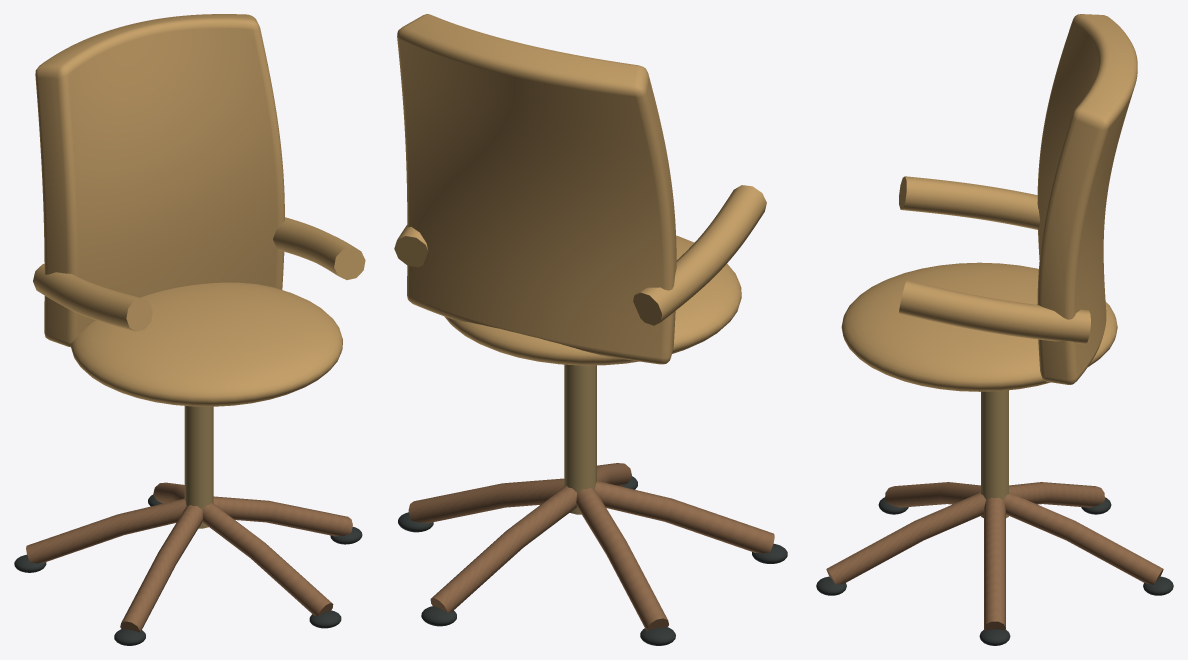
File: chair-3.glb
3 views of the same model, side by side, from view 1: azimuth 30°, elevation 25°; view 2: azimuth 150°, elevation 25°; view 3: azimuth 270°, elevation 25° (orthographic). The views are drawn at different scales.
Parts seen in each view (by area): view 1: Honey chair back, Shaped seat cushion, Swept padded arm, Five star wood foot.002, Five star wood foot.004, Five star wood foot.003, Swept padded arm.001, Swivel column, Five star wood foot, Five star wood foot.001; view 2: Honey chair back, Shaped seat cushion, Swept padded arm, Five star wood foot.003, Five star wood foot.001, Swivel column, Five star wood foot.002, Five star wood foot, Swept padded arm.001, Five star wood foot.004; view 3: Honey chair back, Shaped seat cushion, Swept padded arm.001, Swept padded arm, Five star wood foot.001, Five star wood foot.004, Swivel column, Five star wood foot, Five star wood foot.002, Five star wood foot.003.
Boxes of the visible parts, x1,y1,x2,y2 form: Honey chair back: (35, 14, 284, 347); Shaped seat cushion: (70, 282, 342, 406); Swept padded arm: (33, 263, 152, 331); Five star wood foot.002: (26, 498, 186, 563); Five star wood foot.004: (202, 503, 333, 616); Five star wood foot.003: (120, 505, 202, 632); Swept padded arm.001: (273, 217, 365, 279); Swivel column: (184, 406, 213, 528); Five star wood foot: (213, 496, 352, 536); Five star wood foot.001: (153, 482, 184, 503); Honey chair back: (397, 14, 676, 364); Shaped seat cushion: (444, 235, 741, 365); Swept padded arm: (633, 185, 766, 325); Five star wood foot.003: (595, 481, 774, 553); Five star wood foot.001: (430, 486, 576, 612); Swivel column: (564, 364, 596, 514); Five star wood foot.002: (576, 488, 668, 630); Five star wood foot: (408, 478, 564, 523); Swept padded arm.001: (394, 225, 428, 267); Five star wood foot.004: (597, 463, 631, 486); Honey chair back: (1037, 14, 1137, 384); Shaped seat cushion: (841, 262, 1117, 391); Swept padded arm.001: (899, 280, 1090, 344); Swept padded arm: (899, 176, 1040, 229); Five star wood foot.001: (1004, 492, 1163, 584); Five star wood foot.004: (826, 492, 985, 584); Swivel column: (981, 390, 1008, 517); Five star wood foot: (984, 497, 1005, 630); Five star wood foot.002: (1009, 482, 1104, 507); Five star wood foot.003: (885, 482, 980, 507).
Bounding box in the file's own units: 0.5605 × 0.9276 × 0.5826.
5 materials, 1 textured.
